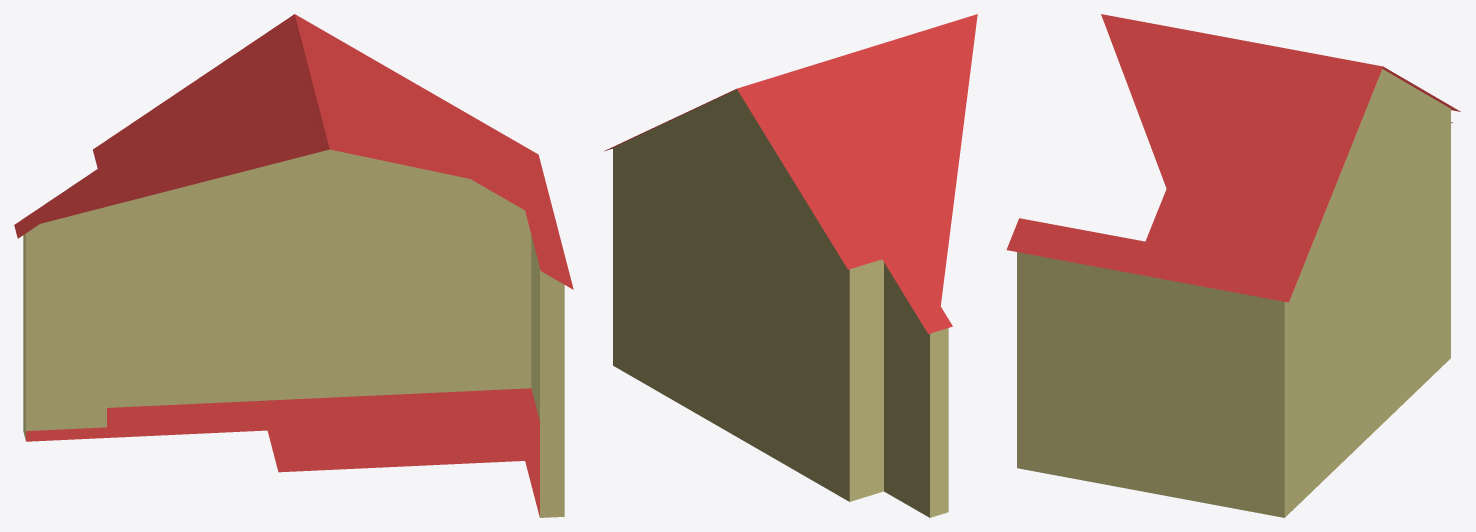
The picture shows the model from 3 angles, left to right: view 1: azimuth 30°, elevation 25°; view 2: azimuth 150°, elevation 25°; view 3: azimuth 270°, elevation 25°; orthographic projection. The views are drawn at different scales.
Bounding box in the file's own units: 15.65 × 14.34 × 12.7.
